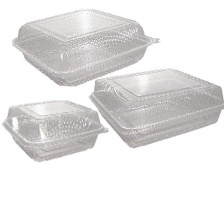plastic_box: (5, 2, 165, 91), (83, 62, 224, 153), (0, 92, 113, 166)
